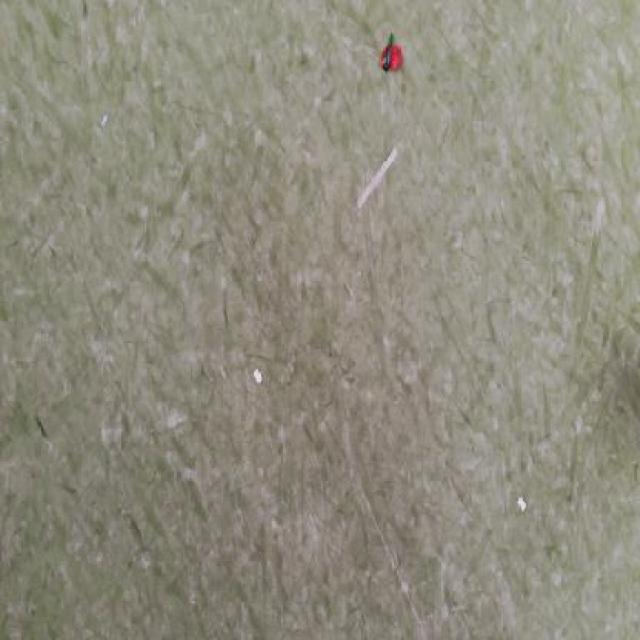Garbage: (378, 32, 403, 71), (252, 365, 263, 385), (518, 495, 526, 513), (102, 114, 107, 126)
